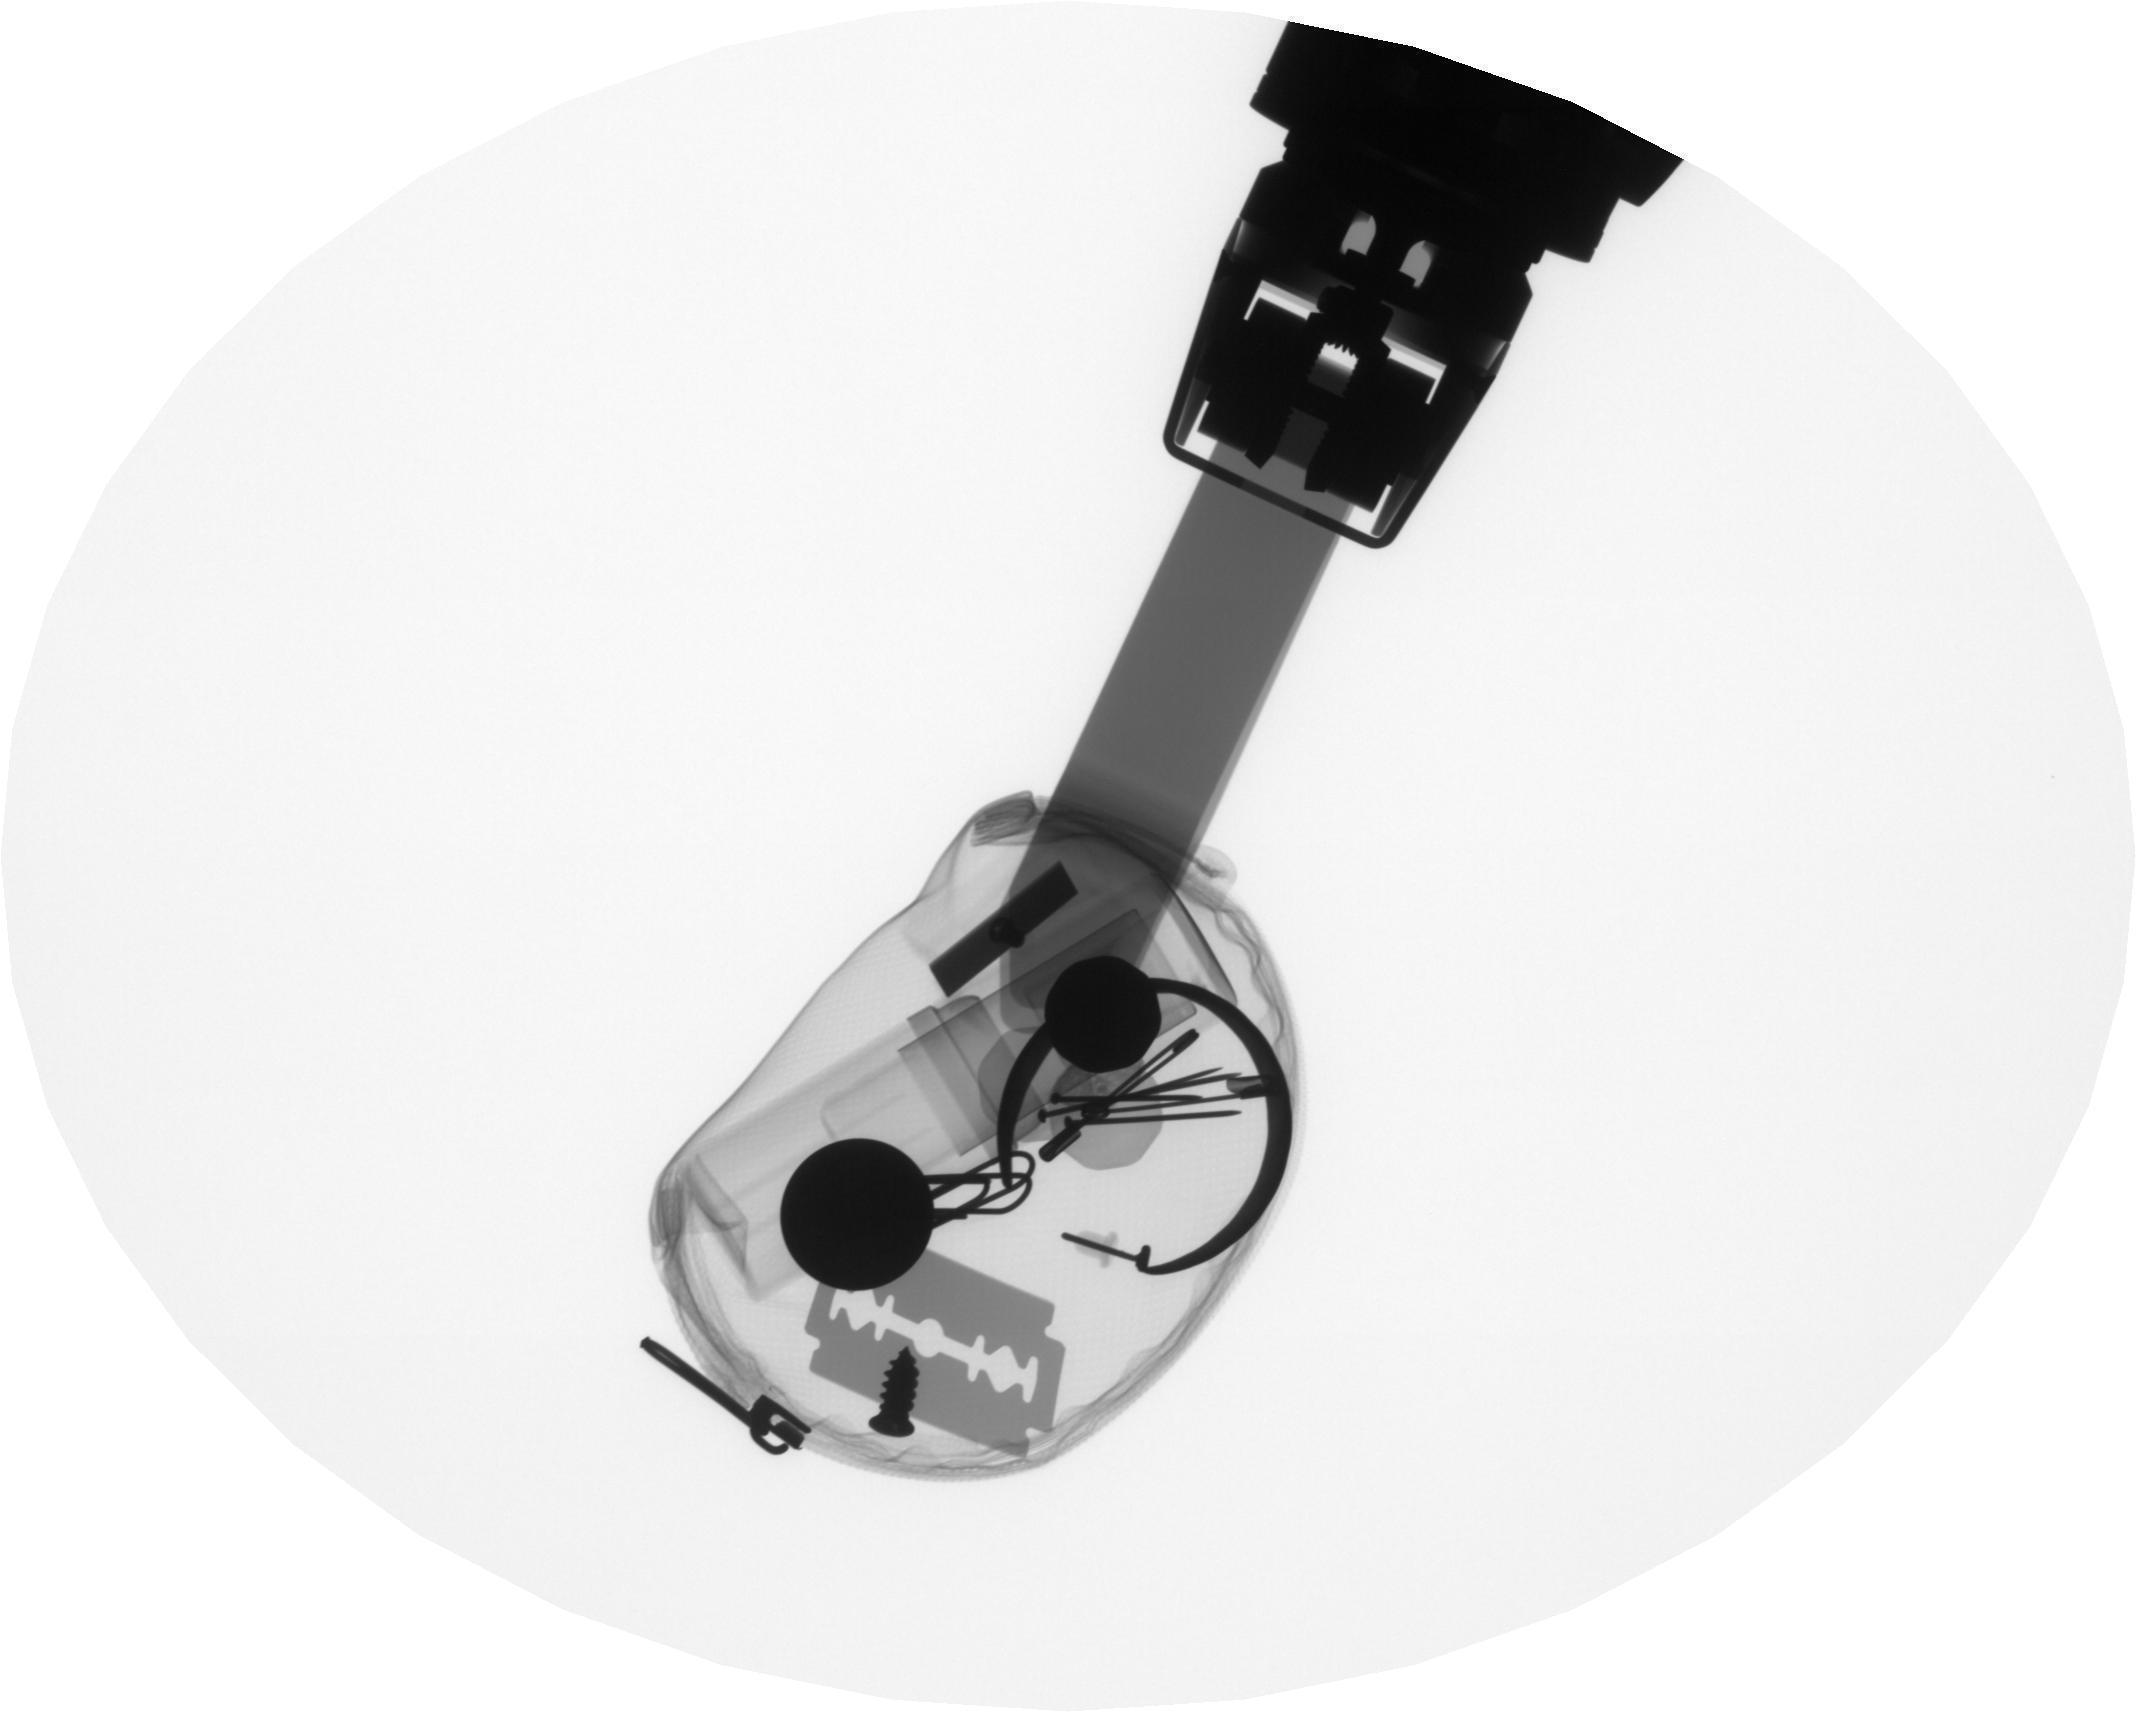RazorBlade: (796, 1232, 1074, 1466)
